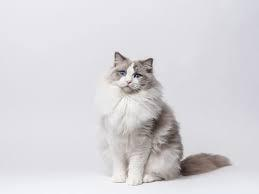ragdoll: (97, 40, 162, 108)
